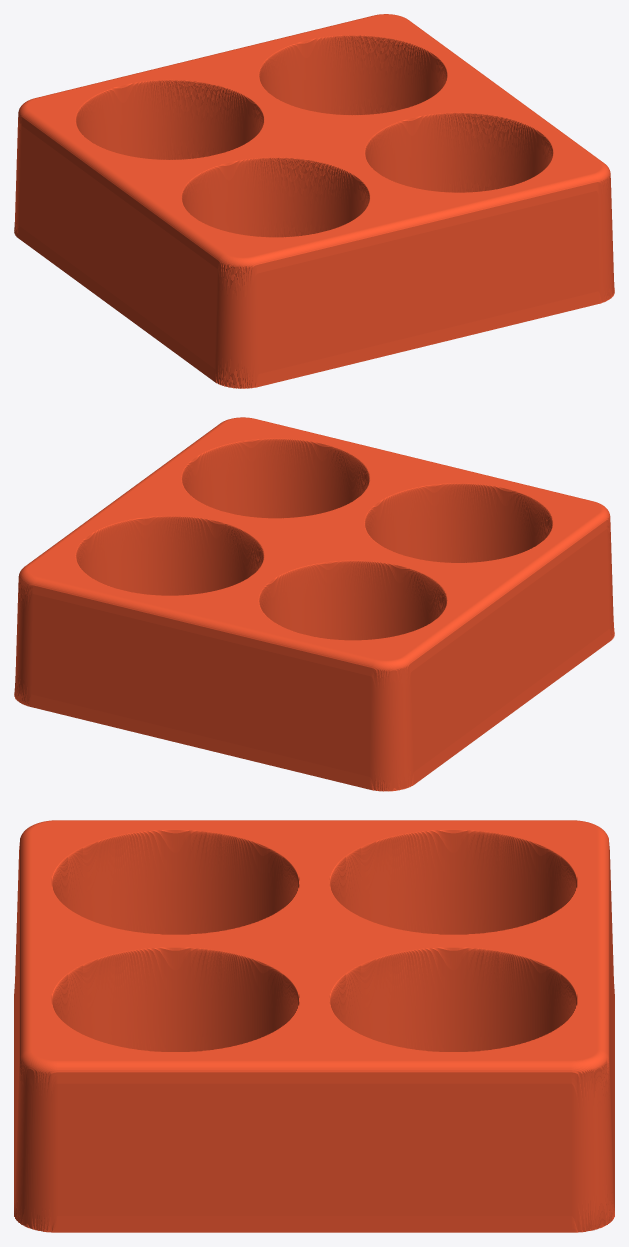
The model's file is mold.glb.
The picture shows the model from 3 angles, top to bottom: view 1: azimuth 30°, elevation 25°; view 2: azimuth 150°, elevation 25°; view 3: azimuth 270°, elevation 25°; orthographic projection. The views are drawn at different scales.
Parts seen in each view (by area): view 1: geometry_0; view 2: geometry_0; view 3: geometry_0.
Boxes of the visible parts, box(x1,y1,x2,y2) form: geometry_0: box(14, 14, 614, 388); geometry_0: box(14, 417, 614, 791); geometry_0: box(14, 820, 614, 1232).
Size of the model in its own units: 0.1248 by 0.0377 by 0.1248.
